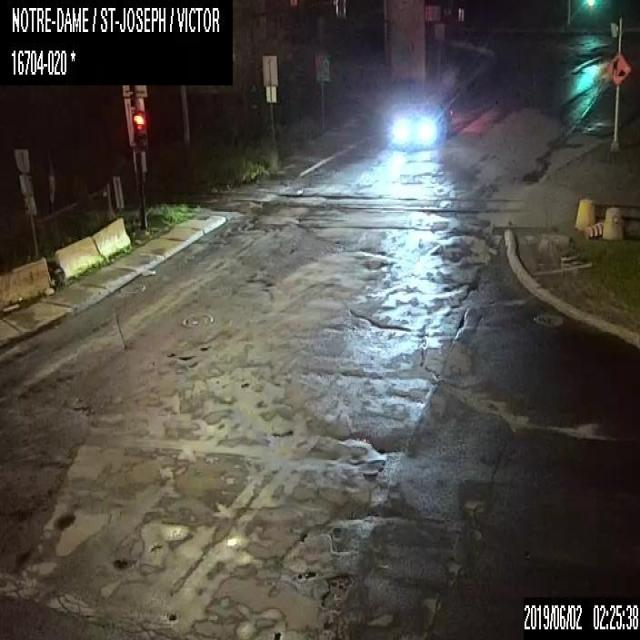construction: (606, 53, 630, 85), (586, 222, 604, 236)
vehicle: (389, 109, 445, 144)
